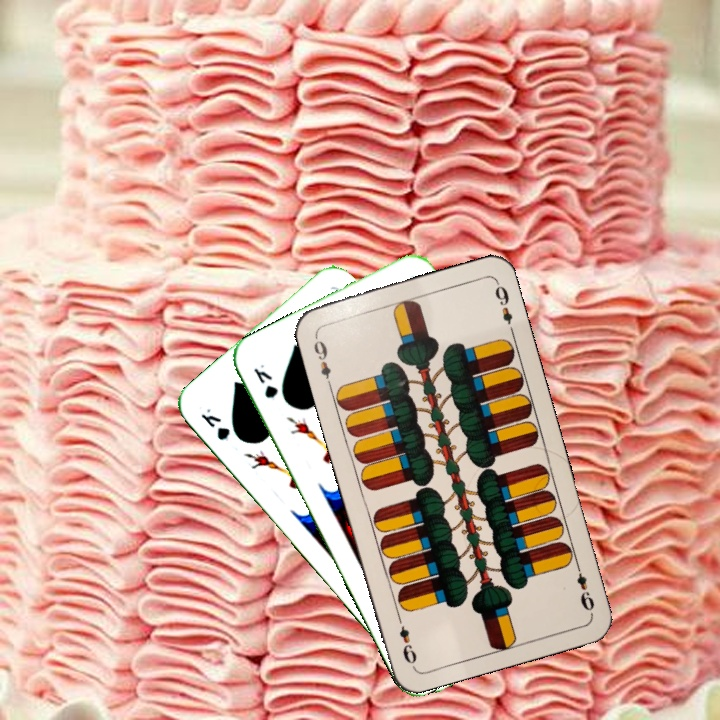E9: (571, 558, 597, 614), (309, 331, 334, 389)
GK: (196, 404, 233, 444), (249, 360, 281, 401)
